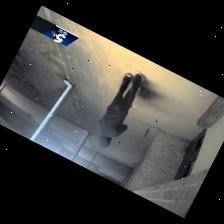person: (97, 71, 143, 147)
